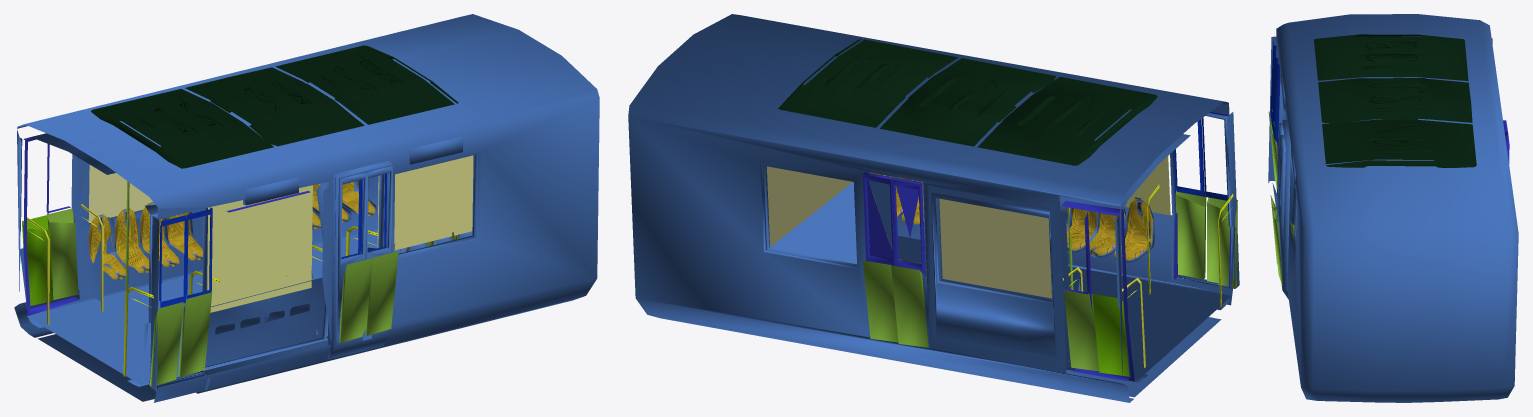
File: carriage.gltf
3 renders of one model, left to right at view 1: azimuth 30°, elevation 25°; view 2: azimuth 150°, elevation 25°; view 3: azimuth 270°, elevation 25°, orthographic. The views are drawn at different scales.
Parts seen in each view (by area): view 1: subway_lowpoly.013; view 2: subway_lowpoly.013; view 3: subway_lowpoly.013.
Boxes of the visible parts, x1=… form: subway_lowpoly.013: x1=14, y1=14, x2=599, y2=402; subway_lowpoly.013: x1=628, y1=14, x2=1239, y2=402; subway_lowpoly.013: x1=1268, y1=14, x2=1518, y2=402.
Size of the model in its own units: 729 by 350 by 375.
36 materials, 4 textured.
